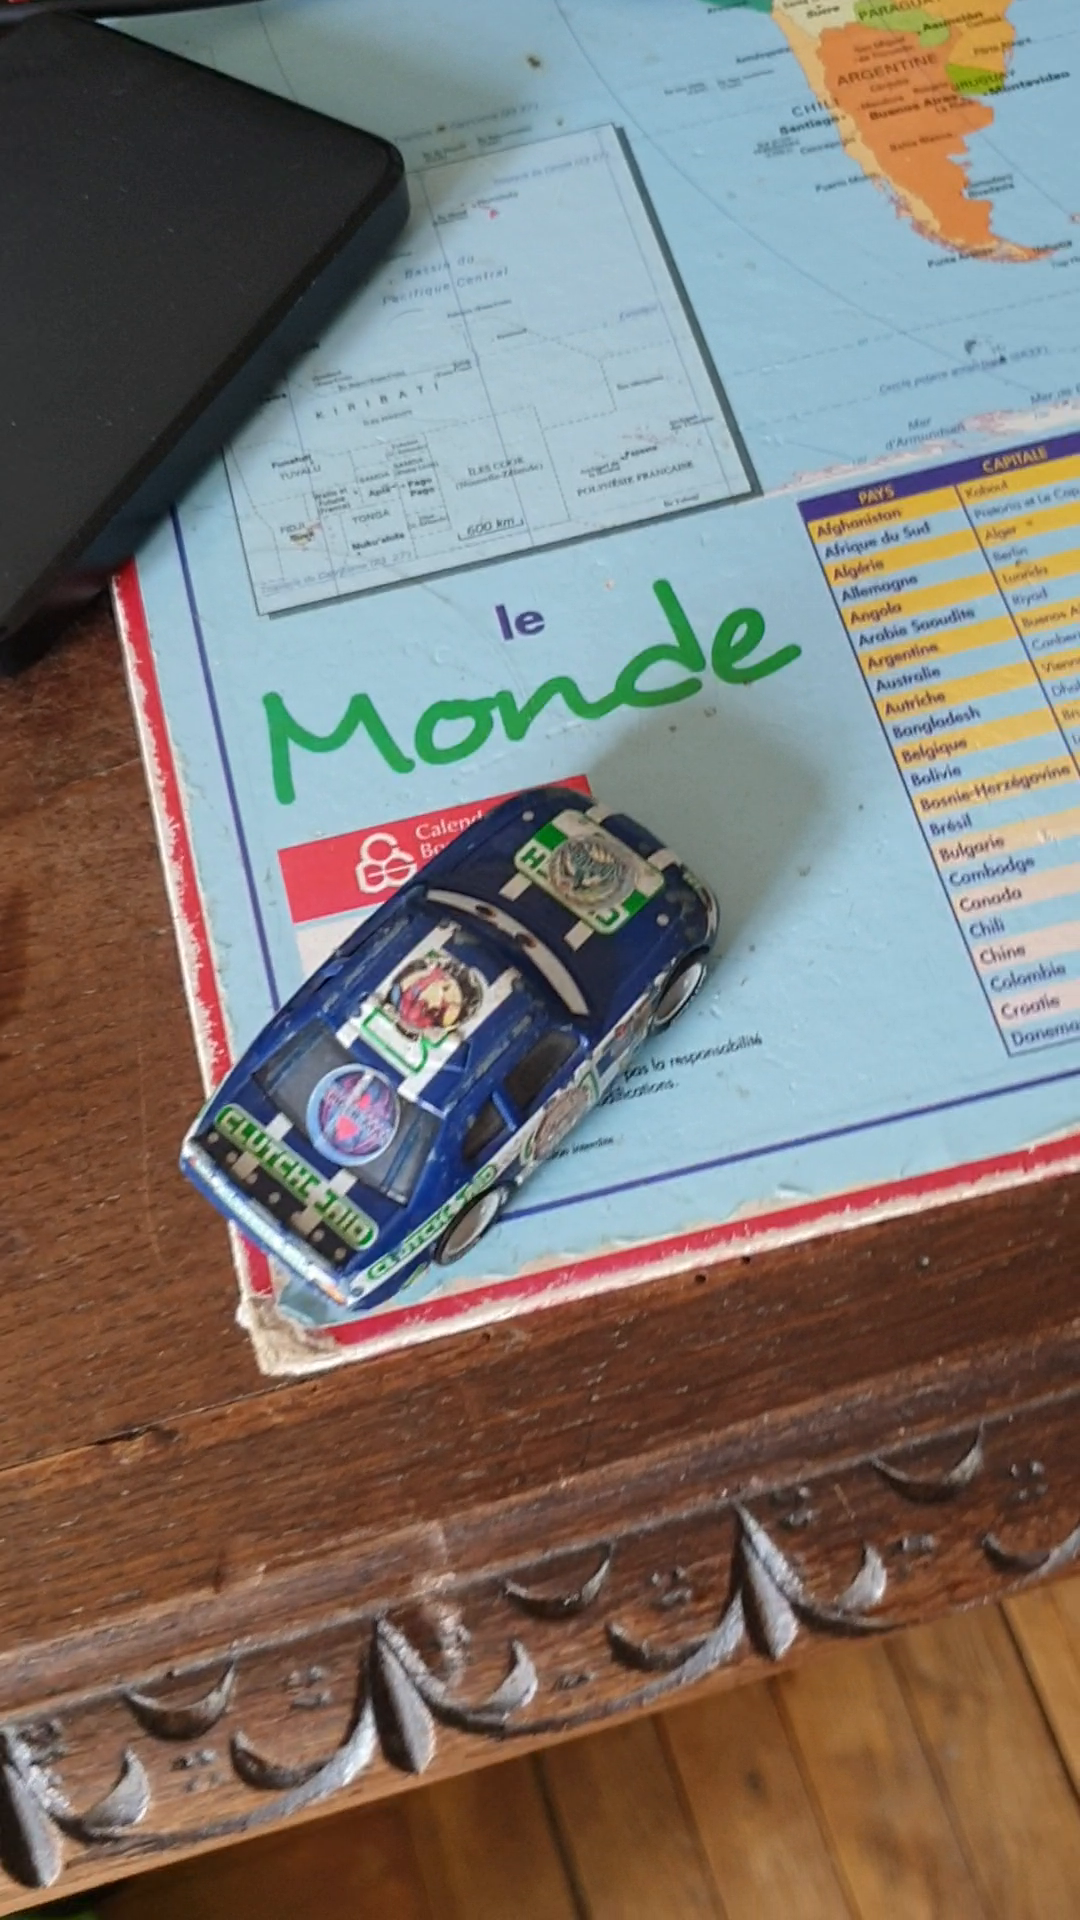cars: (175, 785, 721, 1319)
